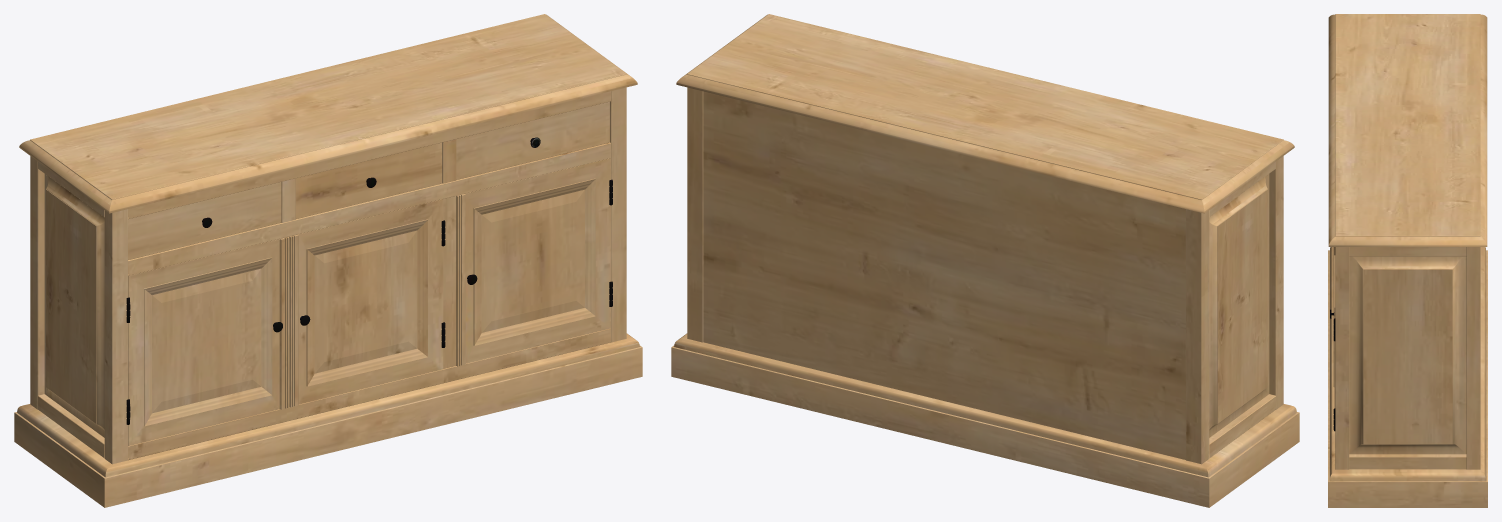
Rendered from sideboard_buffet_bas_clear_oak_charles_cla.glb.
The picture shows the model from 3 angles, left to right: view 1: azimuth 30°, elevation 25°; view 2: azimuth 150°, elevation 25°; view 3: azimuth 270°, elevation 25°; orthographic projection. The views are drawn at different scales.
Visible parts, largest first — view 1: buffet _Material #26_0; view 2: buffet _Material #26_0; view 3: buffet _Material #26_0.
Part boxes in pixels (bbox=[...]): buffet _Material #26_0: bbox=[14, 14, 642, 507]; buffet _Material #26_0: bbox=[671, 14, 1299, 507]; buffet _Material #26_0: bbox=[1328, 14, 1487, 507].
Bounding box in the file's own units: 1.59 × 0.8535 × 0.4628.
Materials: 1 (1 with a texture image).
